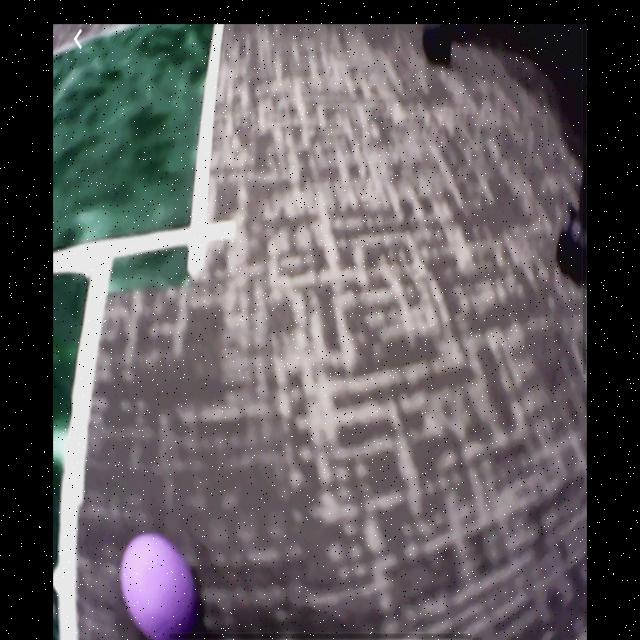ball: (121, 534, 192, 640)
